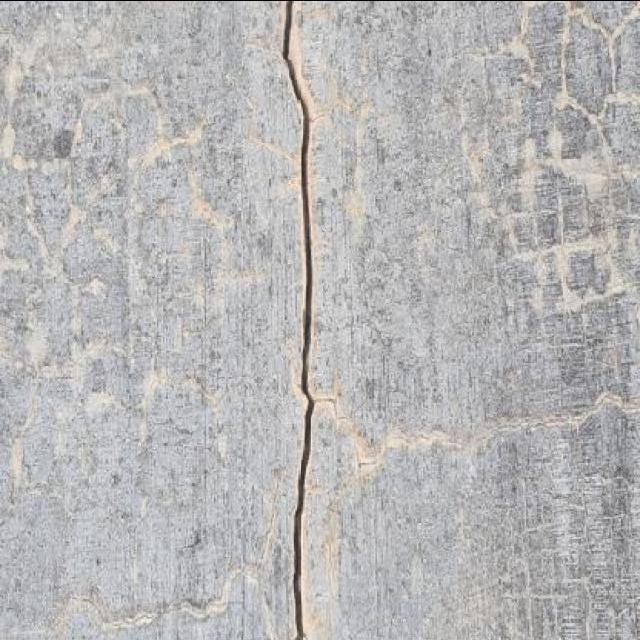crack: (55, 47, 114, 544), (114, 40, 161, 638), (280, 0, 319, 639), (570, 16, 626, 189), (65, 586, 237, 631), (281, 6, 319, 121), (282, 1, 296, 65)
